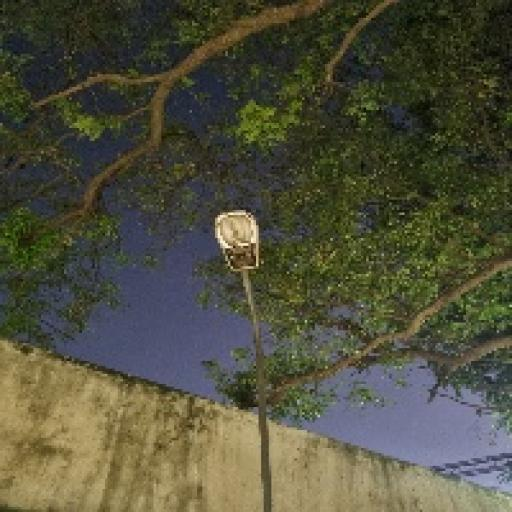Not Working: (198, 205, 273, 276)
